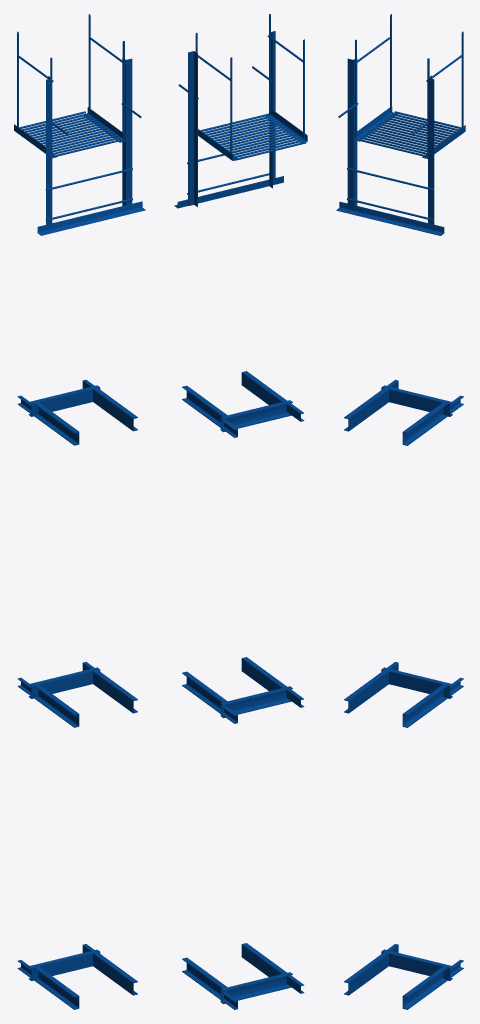
The model's file is GCC-AAV-13220-30.nwd(69).fbx.
3 views of the same model, side by side, from view 1: azimuth 30°, elevation 25°; view 2: azimuth 210°, elevation 25°; view 3: azimuth 330°, elevation 25° (orthographic).
Visible parts, largest first — view 1: GENSEC 26 of SBFRAMEWORK /13220-ST-001/CS/KM2/B/+13.000, GENSEC 27 of SBFRAMEWORK /13220-ST-001/CS/KM2/B/+13.000, GENSEC 25 of SBFRAMEWORK /13220-ST-001/CS/KM2/B/+13.000, GENSEC 43 of SBFRAMEWORK /13220-ST-001/CS/KM2/B/+11.000, GENSEC 38 of SBFRAMEWORK /13220-ST-001/CS/KM2/B/+7.000, GENSEC 60 of SBFRAMEWORK /13220-ST-001/CS/KM2/B/+3.500, GENSEC 40 of SBFRAMEWORK /13220-ST-001/CS/KM2/B/+7.000, GENSEC 62 of SBFRAMEWORK /13220-ST-001/CS/KM2/B/+3.500, GENSEC 45 of SBFRAMEWORK /13220-ST-001/CS/KM2/B/+11.000, GENSEC 39 of SBFRAMEWORK /13220-ST-001/CS/KM2/B/+7.000, GENSEC 61 of SBFRAMEWORK /13220-ST-001/CS/KM2/B/+3.500, GENSEC 44 of SBFRAMEWORK /13220-ST-001/CS/KM2/B/+11.000 (+1 smaller); view 2: GENSEC 26 of SBFRAMEWORK /13220-ST-001/CS/KM2/B/+13.000, GENSEC 38 of SBFRAMEWORK /13220-ST-001/CS/KM2/B/+7.000, GENSEC 60 of SBFRAMEWORK /13220-ST-001/CS/KM2/B/+3.500, GENSEC 43 of SBFRAMEWORK /13220-ST-001/CS/KM2/B/+11.000, GENSEC 25 of SBFRAMEWORK /13220-ST-001/CS/KM2/B/+13.000, GENSEC 39 of SBFRAMEWORK /13220-ST-001/CS/KM2/B/+7.000, GENSEC 61 of SBFRAMEWORK /13220-ST-001/CS/KM2/B/+3.500, GENSEC 44 of SBFRAMEWORK /13220-ST-001/CS/KM2/B/+11.000, GENSEC 27 of SBFRAMEWORK /13220-ST-001/CS/KM2/B/+13.000, GENSEC 45 of SBFRAMEWORK /13220-ST-001/CS/KM2/B/+11.000, GENSEC 62 of SBFRAMEWORK /13220-ST-001/CS/KM2/B/+3.500, GENSEC 40 of SBFRAMEWORK /13220-ST-001/CS/KM2/B/+7.000 (+1 smaller); view 3: GENSEC 25 of SBFRAMEWORK /13220-ST-001/CS/KM2/B/+13.000, GENSEC 27 of SBFRAMEWORK /13220-ST-001/CS/KM2/B/+13.000, GENSEC 26 of SBFRAMEWORK /13220-ST-001/CS/KM2/B/+13.000, GENSEC 38 of SBFRAMEWORK /13220-ST-001/CS/KM2/B/+7.000, GENSEC 60 of SBFRAMEWORK /13220-ST-001/CS/KM2/B/+3.500, GENSEC 43 of SBFRAMEWORK /13220-ST-001/CS/KM2/B/+11.000, GENSEC 39 of SBFRAMEWORK /13220-ST-001/CS/KM2/B/+7.000, GENSEC 44 of SBFRAMEWORK /13220-ST-001/CS/KM2/B/+11.000, GENSEC 61 of SBFRAMEWORK /13220-ST-001/CS/KM2/B/+3.500, GENSEC 62 of SBFRAMEWORK /13220-ST-001/CS/KM2/B/+3.500, GENSEC 40 of SBFRAMEWORK /13220-ST-001/CS/KM2/B/+7.000, GENSEC 45 of SBFRAMEWORK /13220-ST-001/CS/KM2/B/+11.000 (+1 smaller).
Part boxes in pixels (box(x1,y1,x2,y2)): GENSEC 26 of SBFRAMEWORK /13220-ST-001/CS/KM2/B/+13.000: box(122, 58, 132, 205); GENSEC 27 of SBFRAMEWORK /13220-ST-001/CS/KM2/B/+13.000: box(37, 201, 145, 235); GENSEC 25 of SBFRAMEWORK /13220-ST-001/CS/KM2/B/+13.000: box(46, 76, 52, 229); GENSEC 43 of SBFRAMEWORK /13220-ST-001/CS/KM2/B/+11.000: box(28, 385, 100, 416); GENSEC 38 of SBFRAMEWORK /13220-ST-001/CS/KM2/B/+7.000: box(28, 667, 100, 698); GENSEC 60 of SBFRAMEWORK /13220-ST-001/CS/KM2/B/+3.500: box(28, 949, 100, 980); GENSEC 40 of SBFRAMEWORK /13220-ST-001/CS/KM2/B/+7.000: box(34, 684, 79, 727); GENSEC 62 of SBFRAMEWORK /13220-ST-001/CS/KM2/B/+3.500: box(34, 966, 79, 1009); GENSEC 45 of SBFRAMEWORK /13220-ST-001/CS/KM2/B/+11.000: box(34, 402, 79, 445); GENSEC 39 of SBFRAMEWORK /13220-ST-001/CS/KM2/B/+7.000: box(93, 670, 137, 713); GENSEC 61 of SBFRAMEWORK /13220-ST-001/CS/KM2/B/+3.500: box(93, 952, 137, 995); GENSEC 44 of SBFRAMEWORK /13220-ST-001/CS/KM2/B/+11.000: box(93, 388, 137, 431); GENSEC 26 of SBFRAMEWORK /13220-ST-001/CS/KM2/B/+13.000: box(188, 51, 197, 206); GENSEC 38 of SBFRAMEWORK /13220-ST-001/CS/KM2/B/+7.000: box(220, 686, 292, 718); GENSEC 60 of SBFRAMEWORK /13220-ST-001/CS/KM2/B/+3.500: box(220, 972, 292, 1004); GENSEC 43 of SBFRAMEWORK /13220-ST-001/CS/KM2/B/+11.000: box(220, 400, 292, 432); GENSEC 25 of SBFRAMEWORK /13220-ST-001/CS/KM2/B/+13.000: box(269, 31, 275, 188); GENSEC 39 of SBFRAMEWORK /13220-ST-001/CS/KM2/B/+7.000: box(182, 671, 227, 713); GENSEC 61 of SBFRAMEWORK /13220-ST-001/CS/KM2/B/+3.500: box(182, 957, 227, 999); GENSEC 44 of SBFRAMEWORK /13220-ST-001/CS/KM2/B/+11.000: box(182, 385, 227, 427); GENSEC 27 of SBFRAMEWORK /13220-ST-001/CS/KM2/B/+13.000: box(174, 176, 283, 208); GENSEC 45 of SBFRAMEWORK /13220-ST-001/CS/KM2/B/+11.000: box(241, 371, 286, 405); GENSEC 62 of SBFRAMEWORK /13220-ST-001/CS/KM2/B/+3.500: box(241, 943, 286, 976); GENSEC 40 of SBFRAMEWORK /13220-ST-001/CS/KM2/B/+7.000: box(241, 657, 286, 690); GENSEC 25 of SBFRAMEWORK /13220-ST-001/CS/KM2/B/+13.000: box(347, 58, 357, 210); GENSEC 27 of SBFRAMEWORK /13220-ST-001/CS/KM2/B/+13.000: box(336, 201, 444, 235); GENSEC 26 of SBFRAMEWORK /13220-ST-001/CS/KM2/B/+13.000: box(428, 75, 434, 224); GENSEC 38 of SBFRAMEWORK /13220-ST-001/CS/KM2/B/+7.000: box(381, 667, 452, 698); GENSEC 60 of SBFRAMEWORK /13220-ST-001/CS/KM2/B/+3.500: box(381, 949, 452, 980); GENSEC 43 of SBFRAMEWORK /13220-ST-001/CS/KM2/B/+11.000: box(381, 385, 452, 416); GENSEC 39 of SBFRAMEWORK /13220-ST-001/CS/KM2/B/+7.000: box(402, 684, 447, 727); GENSEC 44 of SBFRAMEWORK /13220-ST-001/CS/KM2/B/+11.000: box(402, 402, 447, 445); GENSEC 61 of SBFRAMEWORK /13220-ST-001/CS/KM2/B/+3.500: box(402, 966, 447, 1009); GENSEC 62 of SBFRAMEWORK /13220-ST-001/CS/KM2/B/+3.500: box(344, 952, 388, 995); GENSEC 40 of SBFRAMEWORK /13220-ST-001/CS/KM2/B/+7.000: box(344, 670, 388, 713); GENSEC 45 of SBFRAMEWORK /13220-ST-001/CS/KM2/B/+11.000: box(344, 388, 388, 431).
Size of the model in its own units: 53.45 by 460 by 48.88.
